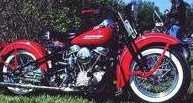motorcycle: (2, 4, 190, 101)
